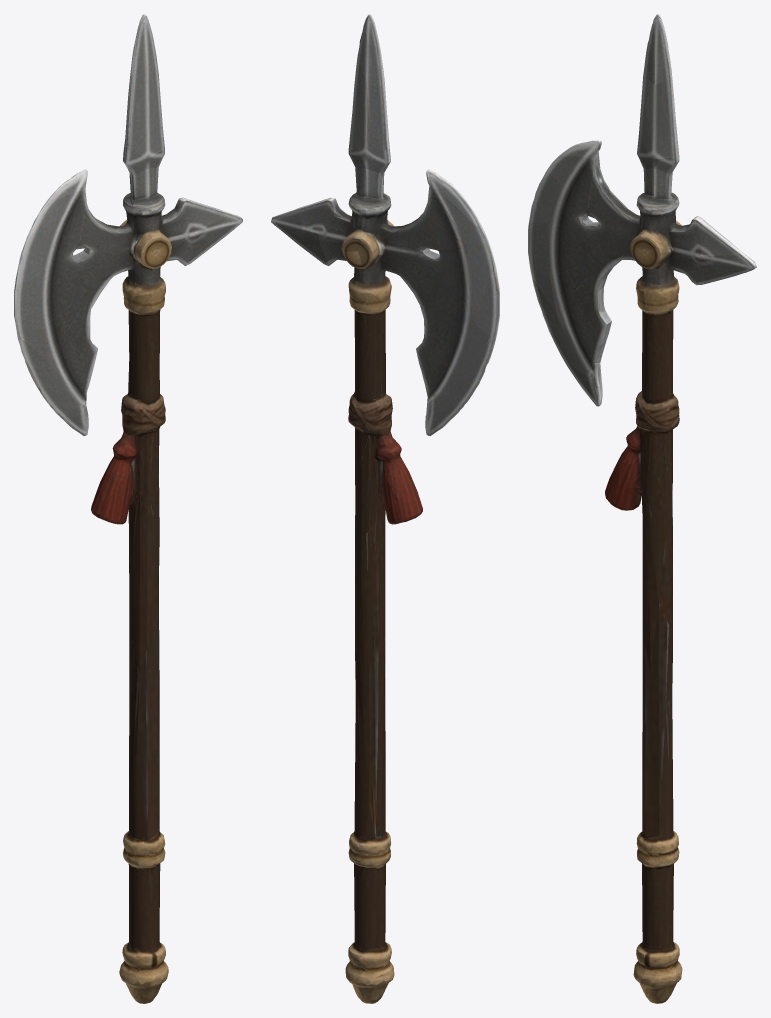
Rendered from dragoon_halberd.glb.
3 views of the same model, side by side, from view 1: azimuth 30°, elevation 25°; view 2: azimuth 150°, elevation 25°; view 3: azimuth 330°, elevation 25° (orthographic).
Bounding box in the file's own units: 0.6629 × 2.75 × 0.1337.
1 material, 1 textured.
